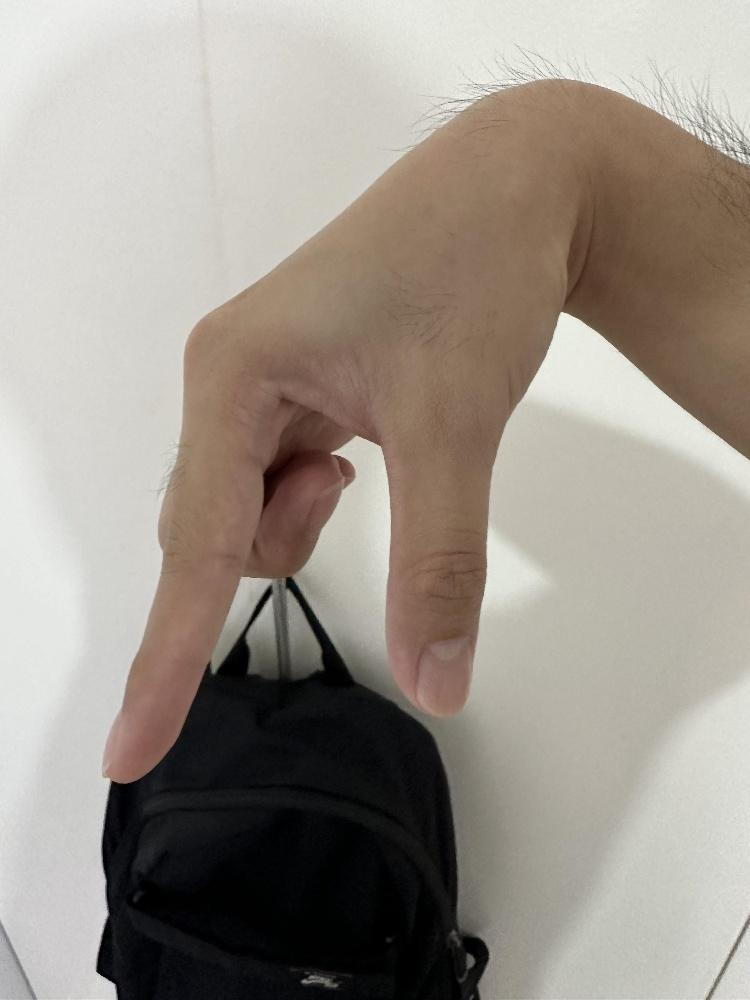q: (97, 73, 594, 791)
